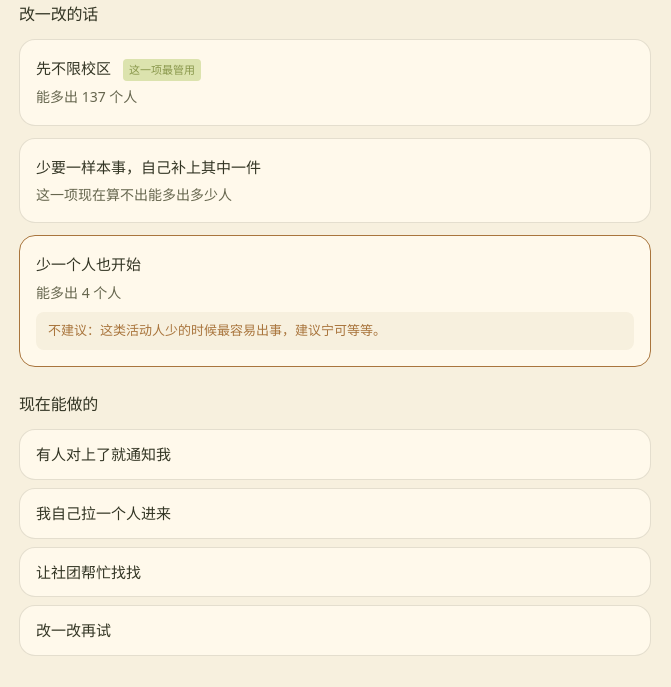
Scenario: 还差这几件事 › 下一步每个都能点，点开都有真东西
(page scrolled)
Click the button "有人对上了就通知我": [104, 454] box [20,430,650,479]
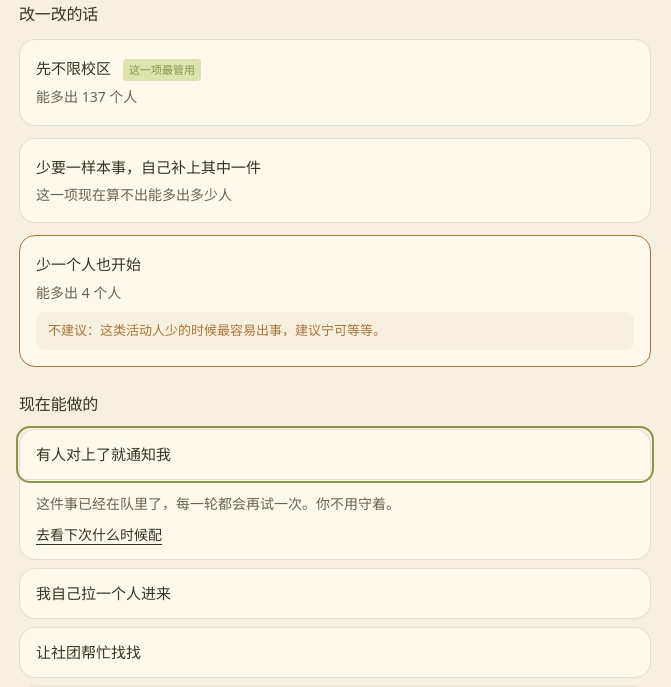
Result: the text "这件事已经在队里了，每一轮都会再试一次。你不用守着。" is shown at [36,494,400,513]
Click the button "我自己拉一个人进来": [104, 593] box [20,569,650,618]
(page scrolled)
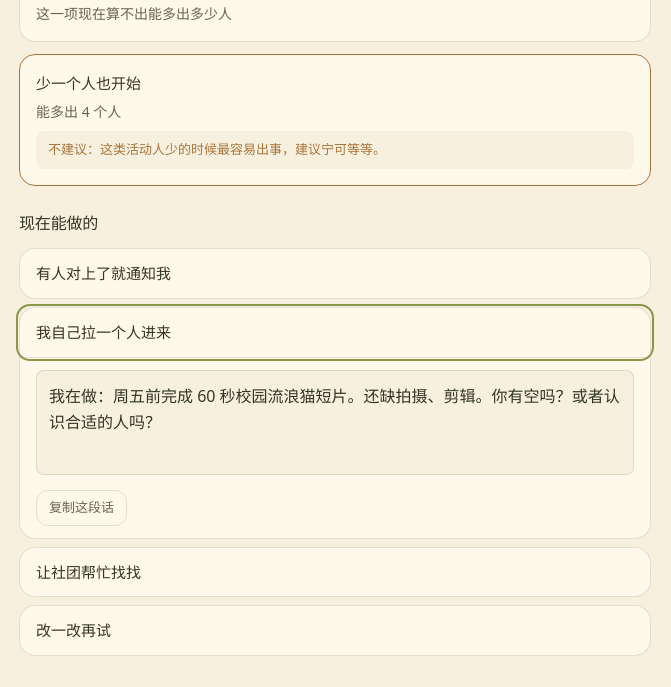
Result: the text box named "可以直接发出去的话" holds "我在做：周五前完成 60 秒校园流浪猫短片。还缺拍摄、剪辑。你有空吗？或者认识合适的人吗？" at [36,370,634,475]
Click the button "让社团帮忙找找": [89, 572] box [20,548,650,596]
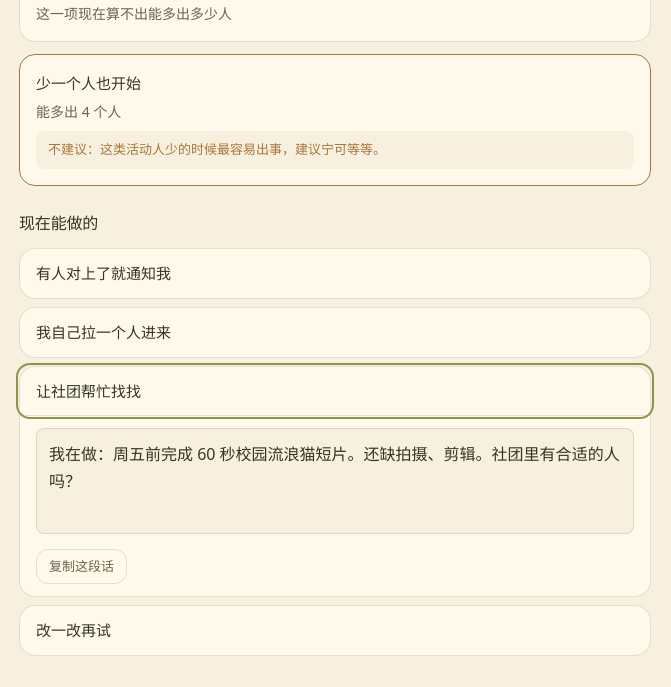
Result: the text box named "可以直接发出去的话" holds "我在做：周五前完成 60 秒校园流浪猫短片。还缺拍摄、剪辑。社团里有合适的人吗？" at [36,428,634,534]
Click the button "改一改再试": [74, 630] box [20,606,650,655]
(page scrolled)
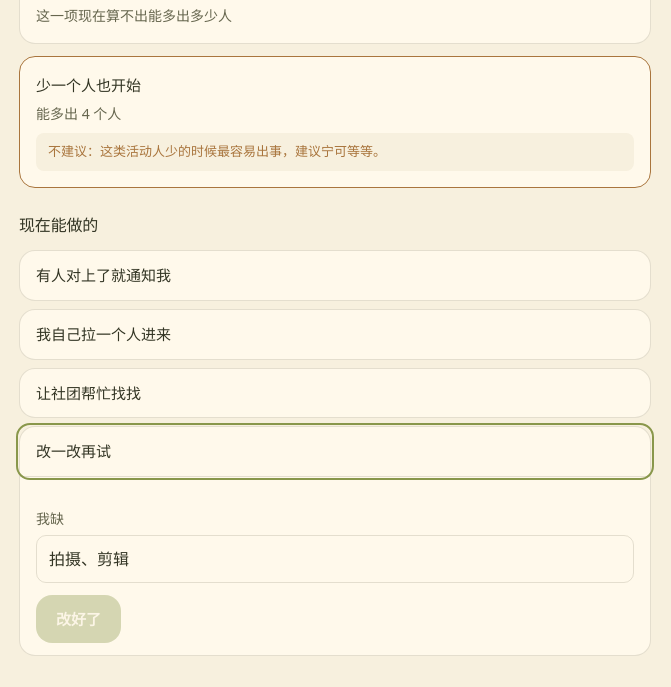
Result: the field labelled "我缺" holds "拍摄、剪辑" at [36,536,634,584]
